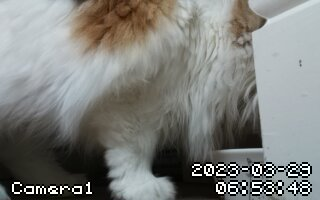clara: (2, 4, 264, 194)
